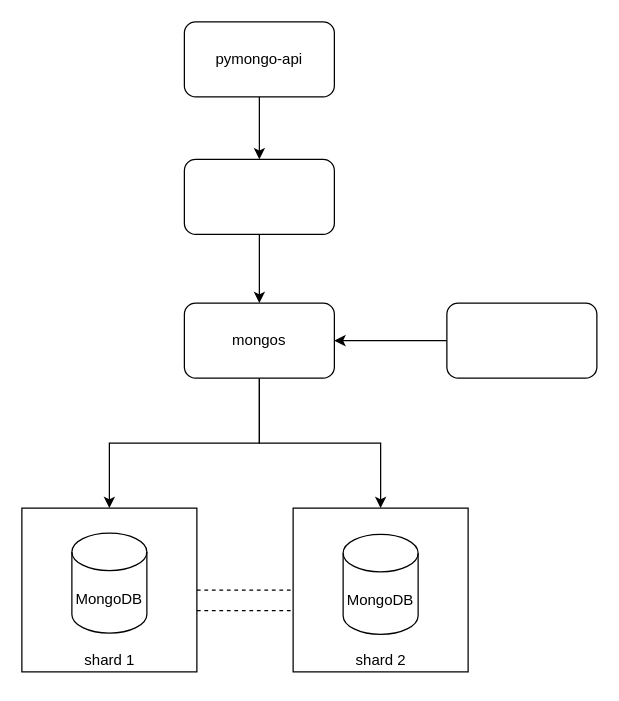
Image size: 619x701. Some labels were removed from this diagram. The centre of each missing label's shape, as x and y in pixels:
"config server" belongs at (x=521, y=340).
"драйвер" belongs at (x=258, y=196).
